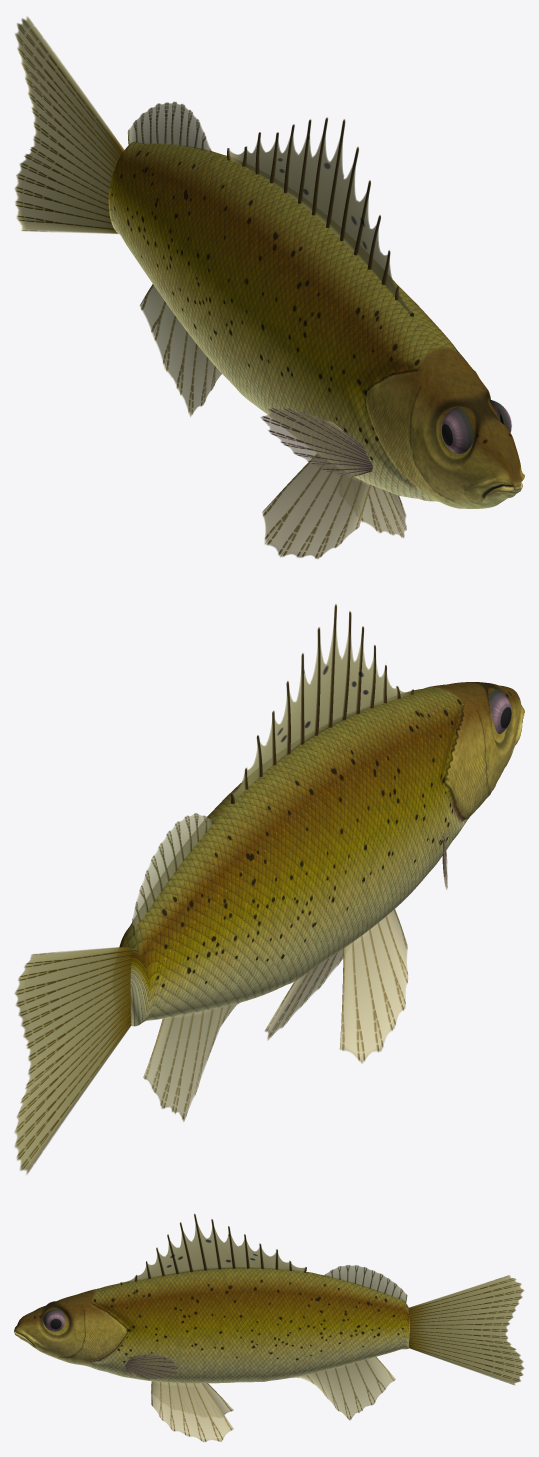
The model's file is jazgarz.glb.
The picture shows the model from 3 angles, top to bottom: view 1: azimuth 30°, elevation 25°; view 2: azimuth 150°, elevation 25°; view 3: azimuth 270°, elevation 25°; orthographic projection. The views are drawn at different scales.
Visible parts, largest first — view 1: Body, FinCaudal, FinPelvic, FinDorsal1, FinAnal, FinPectoral, FinDorsal2, EyeLeft; view 2: Body, FinCaudal, FinPelvic, FinDorsal1, FinAnal, FinDorsal2, EyeLeft; view 3: Body, FinCaudal, FinDorsal1, FinPelvic, FinAnal, FinDorsal2, FinPectoral, EyeRight.
Boxes of the visible parts, x1=… form: Body: x1=108, y1=142, x2=524, y2=508; FinCaudal: x1=14, y1=16, x2=124, y2=233; FinPelvic: x1=262, y1=453, x2=406, y2=558; FinDorsal1: x1=227, y1=117, x2=413, y2=316; FinAnal: x1=139, y1=284, x2=221, y2=417; FinPectoral: x1=260, y1=408, x2=372, y2=476; FinDorsal2: x1=127, y1=101, x2=211, y2=152; EyeLeft: x1=441, y1=407, x2=473, y2=453; Body: x1=119, y1=682, x2=524, y2=1026; FinCaudal: x1=14, y1=946, x2=131, y2=1174; FinPelvic: x1=265, y1=909, x2=407, y2=1063; FinDorsal1: x1=230, y1=604, x2=414, y2=803; FinAnal: x1=143, y1=1003, x2=239, y2=1122; FinDorsal2: x1=132, y1=813, x2=213, y2=935; EyeLeft: x1=488, y1=689, x2=511, y2=733; Body: x1=14, y1=1268, x2=409, y2=1383; FinCaudal: x1=408, y1=1275, x2=524, y2=1385; FinDorsal1: x1=120, y1=1213, x2=306, y2=1284; FinPelvic: x1=151, y1=1381, x2=233, y2=1442; FinAnal: x1=292, y1=1357, x2=395, y2=1420; FinDorsal2: x1=324, y1=1265, x2=407, y2=1302; FinPectoral: x1=125, y1=1353, x2=179, y2=1379; EyeRight: x1=43, y1=1309, x2=65, y2=1331.
Size of the model in its own units: 0.2135 by 0.4878 by 1.
Materials: 9 (8 with a texture image).
